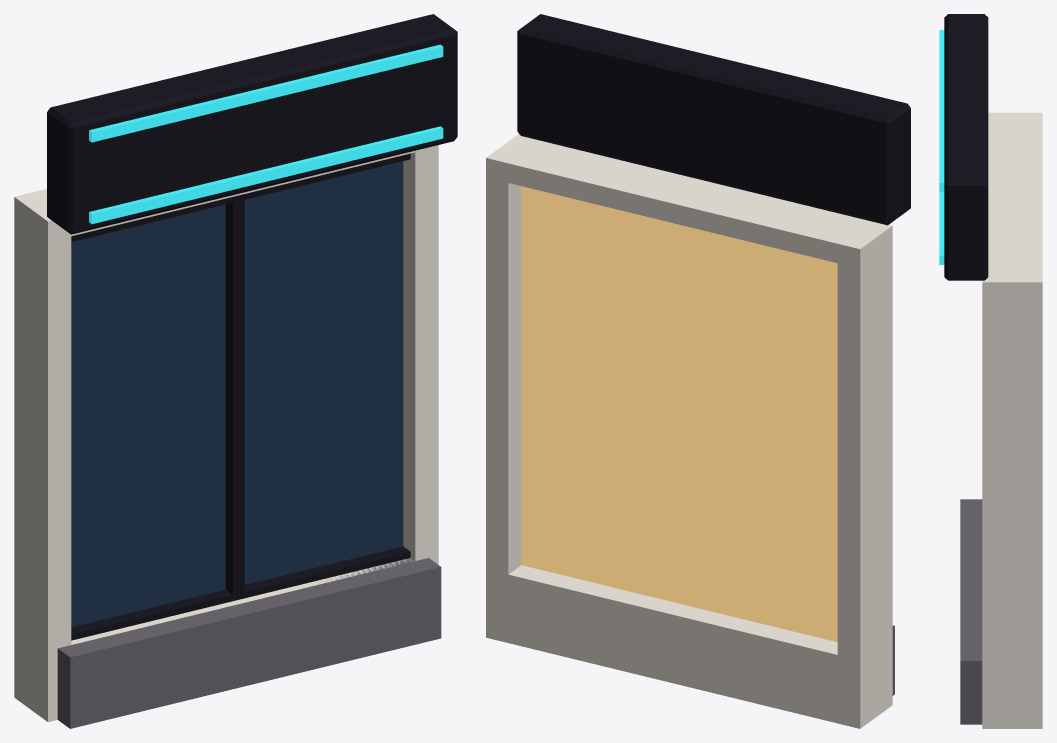
Rendered from shop_front.glb.
The picture shows the model from 3 angles, left to right: view 1: azimuth 30°, elevation 25°; view 2: azimuth 150°, elevation 25°; view 3: azimuth 270°, elevation 25°; orthographic projection. The views are drawn at different scales.
Visible parts, largest first — view 1: shop_front; view 2: shop_front; view 3: shop_front.
Boxes of the visible parts, x1=… form: shop_front: x1=14, y1=14, x2=457, y2=728; shop_front: x1=486, y1=14, x2=910, y2=728; shop_front: x1=939, y1=14, x2=1042, y2=728.
Bounding box in the file's own units: 2 × 3 × 0.515.
4 materials, 4 textured.
